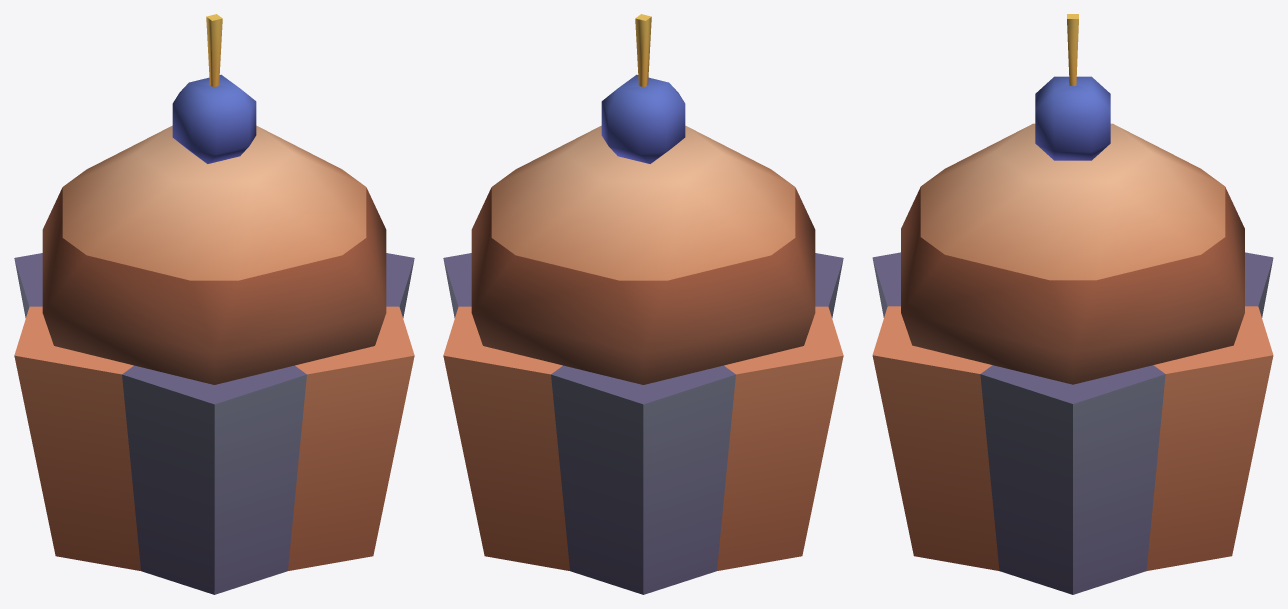
Rendered from cupcake.glb.
3 views of the same model, side by side, from view 1: azimuth 30°, elevation 25°; view 2: azimuth 150°, elevation 25°; view 3: azimuth 270°, elevation 25° (orthographic).
Visible parts, largest first — view 1: cupcake, cake, cherry; view 2: cupcake, cake, cherry; view 3: cupcake, cake, cherry.
Part boxes in pixels (x1=…): cupcake: x1=14, y1=253, x2=414, y2=594; cake: x1=42, y1=125, x2=386, y2=384; cherry: x1=172, y1=14, x2=256, y2=163; cupcake: x1=443, y1=253, x2=843, y2=594; cake: x1=471, y1=125, x2=815, y2=384; cherry: x1=601, y1=14, x2=685, y2=163; cupcake: x1=872, y1=252, x2=1273, y2=594; cake: x1=901, y1=123, x2=1244, y2=384; cherry: x1=1035, y1=14, x2=1110, y2=160.
Size of the model in its own units: 0.3552 by 0.4238 by 0.3076.
Materials: 1 (1 with a texture image).
